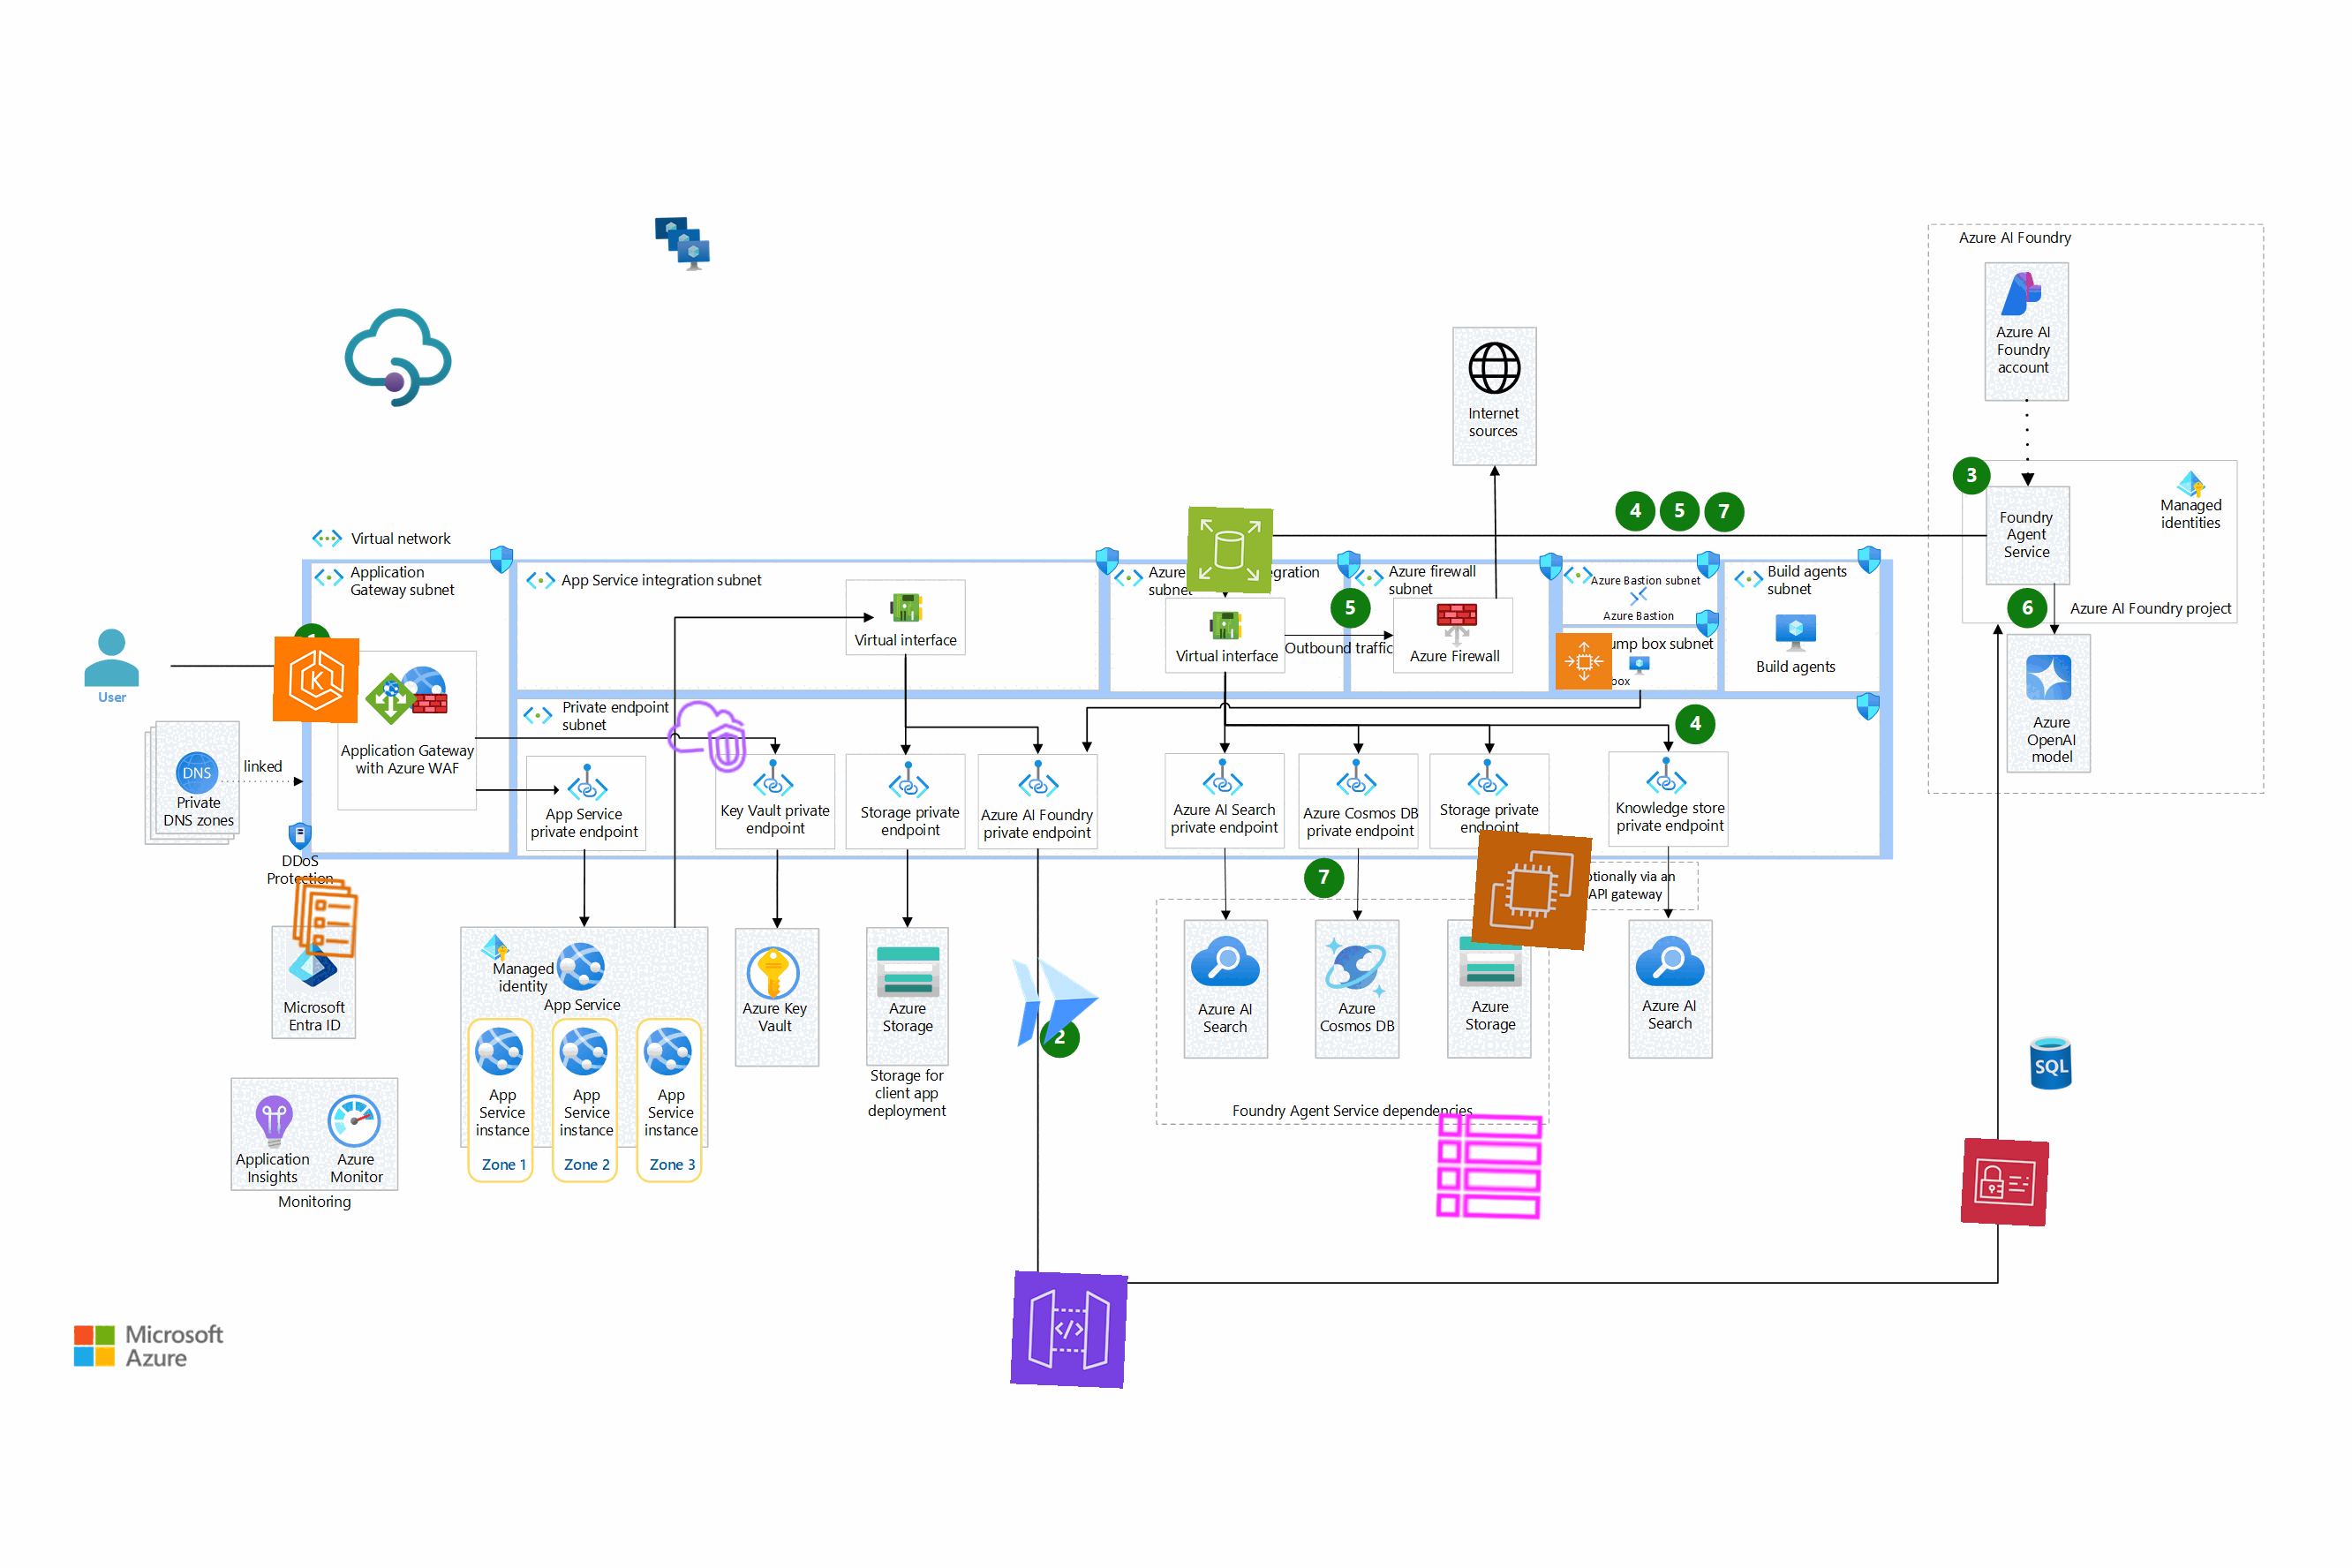aws_amazon_api_gateway: (1010, 1270, 1129, 1389)
aws_amazon_ec2: (1472, 829, 1592, 950)
aws_amazon_ec2_auto_scaling: (1554, 632, 1613, 691)
aws_amazon_elastic_block_store: (1186, 506, 1274, 595)
aws_amazon_elastic_kubernetes_service: (271, 635, 360, 724)
aws_dynamodb_table: (1431, 1108, 1547, 1225)
aws_elastic_container_service_service: (280, 871, 371, 963)
aws_identity_and_access_management: (1960, 1137, 2049, 1227)
aws_vpc_virtual_private_cloud_vpc: (660, 691, 752, 782)
azure_api_management_services: (341, 301, 455, 415)
azure_sql_database: (2021, 1034, 2081, 1092)
azure_vm_scale_sets: (653, 213, 710, 271)
gcp_cloud_run: (996, 940, 1115, 1060)
